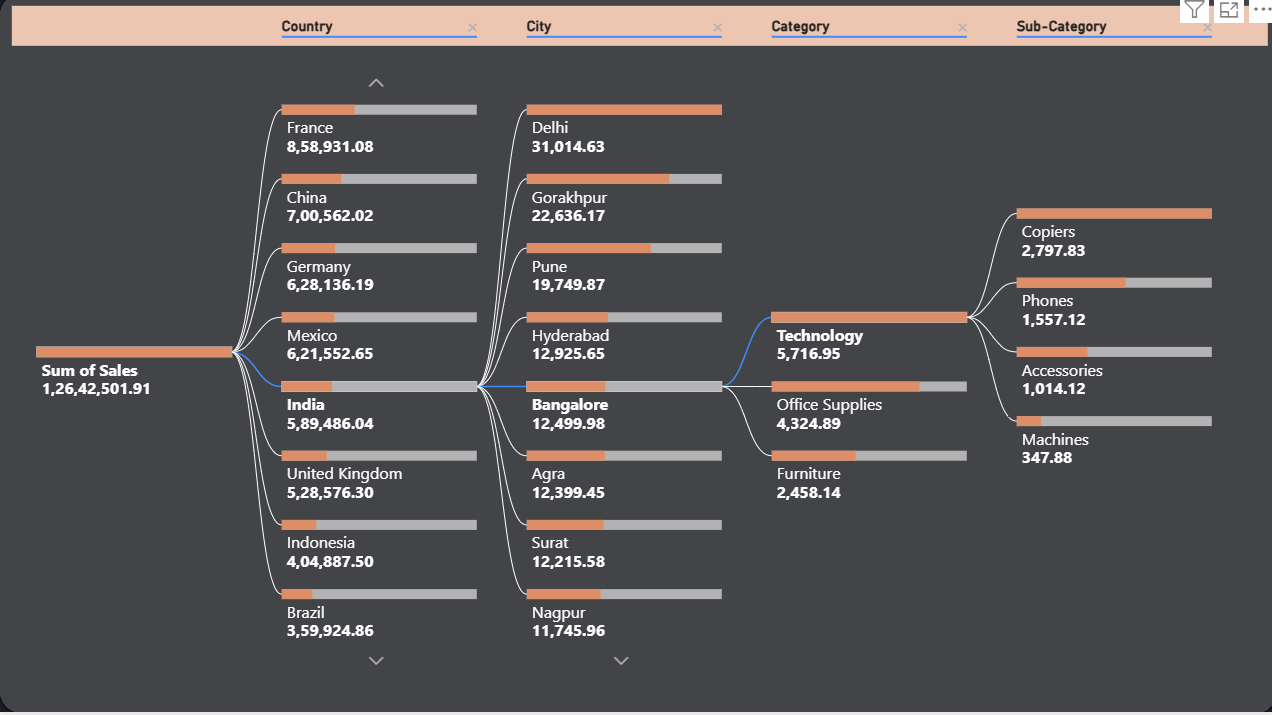

What the dashboard file says about the page in this screenshot:
{"tool":"powerbi","page":{"name":"Decompostion Chart","canvas":[1280,720],"ordinal":2},"visuals":[{"type":"decompositionTreeVisual","fields":{"Analyze":["Sum(Orders.Sales)"],"ExplainBy":["Orders.Country","Orders.City","Orders.Category","Orders.Sub-Category"]},"box":[0,0,1280.3,720.4],"z":0}]}

Visuals, with their boxes on the page's 1280x720 design canvas (x1, y1, x2, y2). These are canvas units, not pixel positions in the 1272x715 screenshot, which may show the page scaled, cropped or inside an application window:
decompositionTreeVisual - Sum(Orders.Sales) x Orders.Country: crop(0, 0, 1280, 720)
